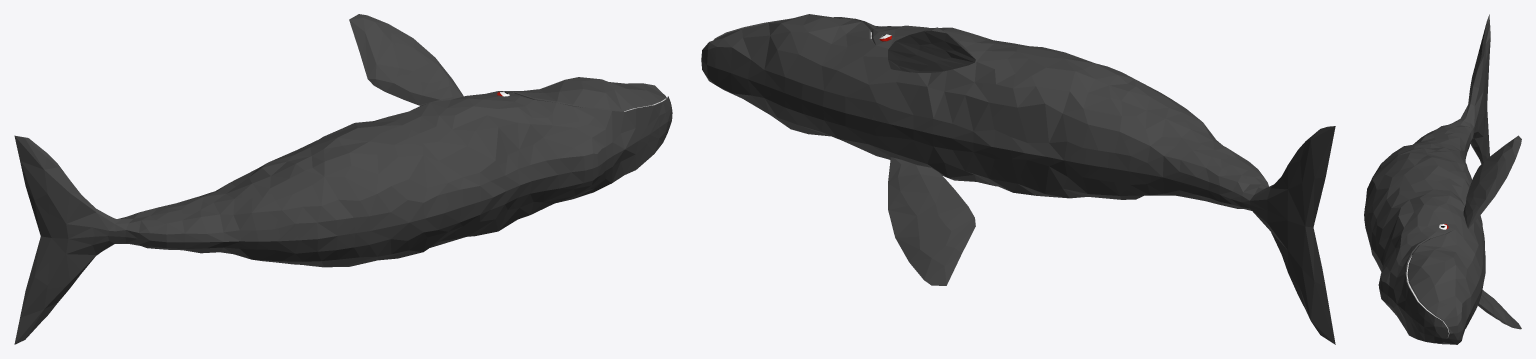
Rendered from BowheadWhale.glb.
3 renders of one model, left to right at view 1: azimuth 30°, elevation 25°; view 2: azimuth 150°, elevation 25°; view 3: azimuth 270°, elevation 25°, orthographic. The views are drawn at different scales.
Visible parts, largest first — view 1: BowheadWhale; view 2: BowheadWhale; view 3: BowheadWhale.
Boxes of the visible parts, x1=… form: BowheadWhale: x1=14, y1=14, x2=672, y2=344; BowheadWhale: x1=701, y1=14, x2=1335, y2=344; BowheadWhale: x1=1364, y1=14, x2=1521, y2=344.
Bounding box in the file's own units: 13.96 × 5.18 × 3.91.
Materials: 1 (1 with a texture image).
